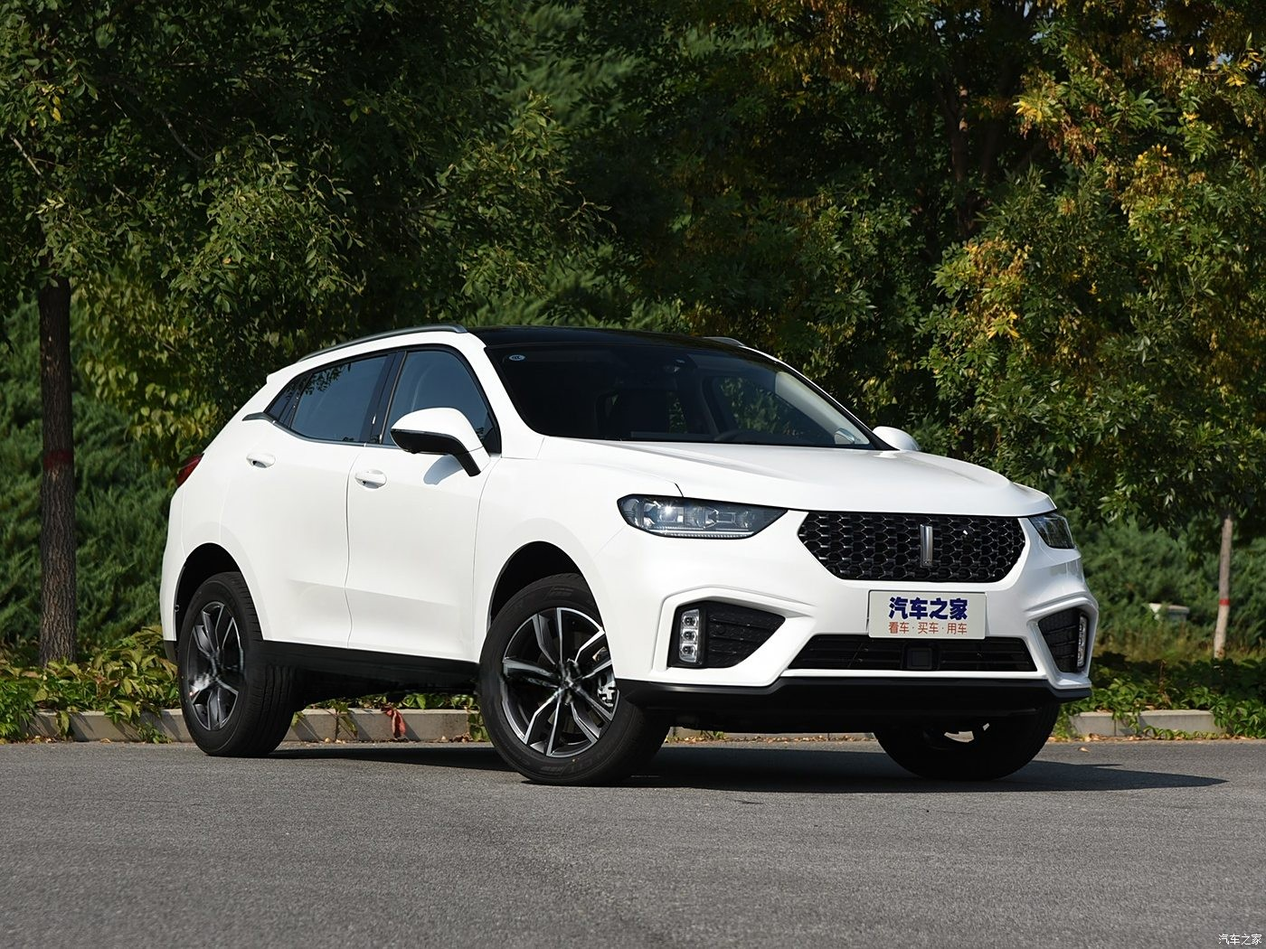WEY: (925, 527, 932, 567)
